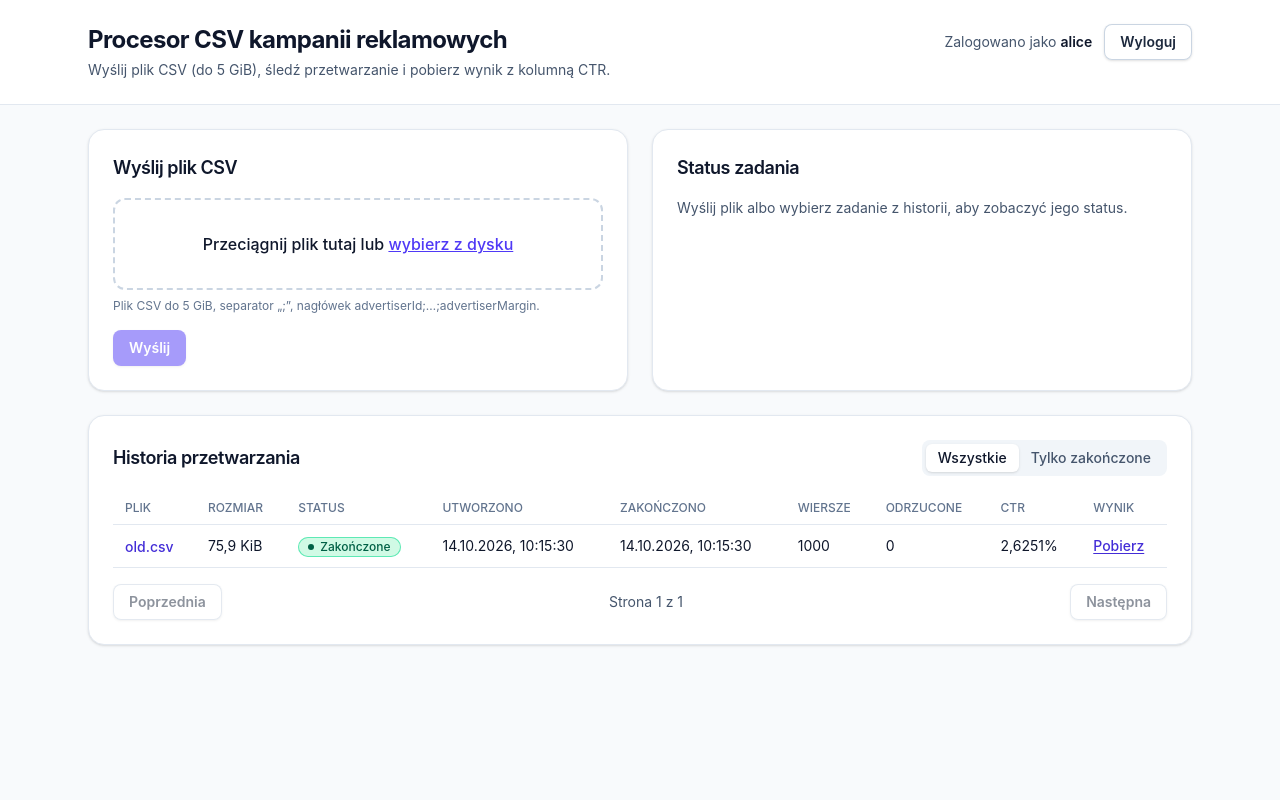
Test: JobsPage › shows the status of a job picked from the history
Click the button with aria-label "Pokaż status pliku old.csv" at (149, 547), box x1=125 y1=537 x2=174 y2=557
(page scrolled)
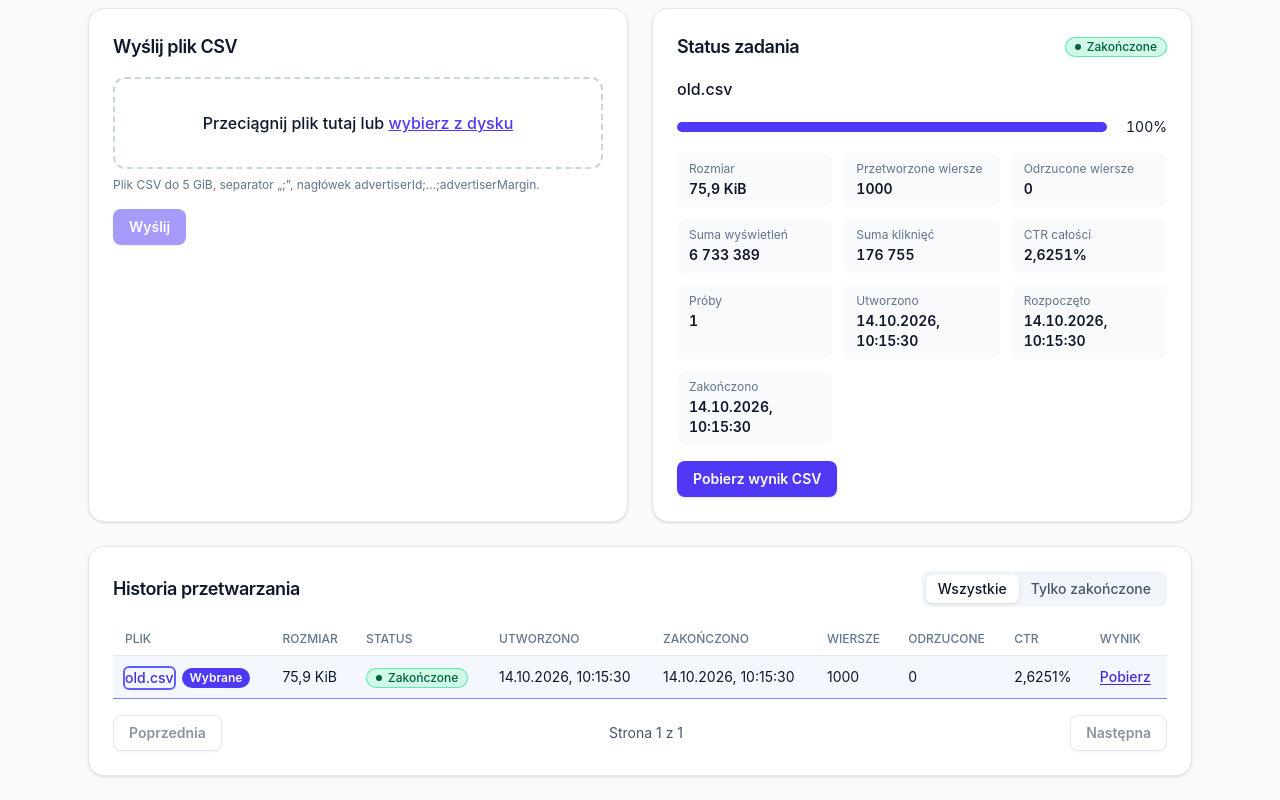
Expected: the text "old.csv" is shown, x1=677 y1=79 x2=732 y2=99
